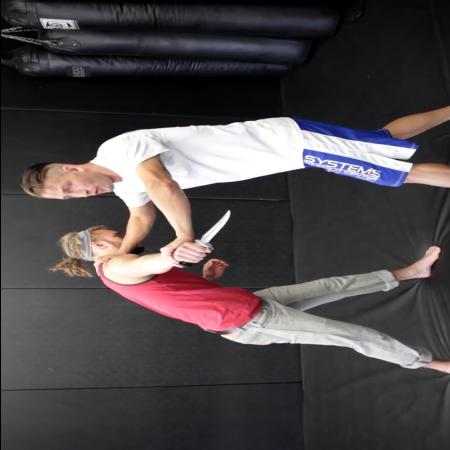long weapon: (171, 208, 236, 270)
